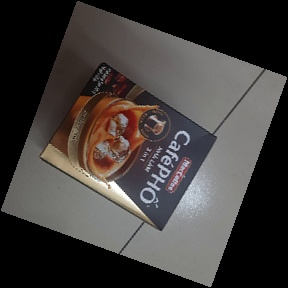CF pho: (37, 60, 219, 230)
